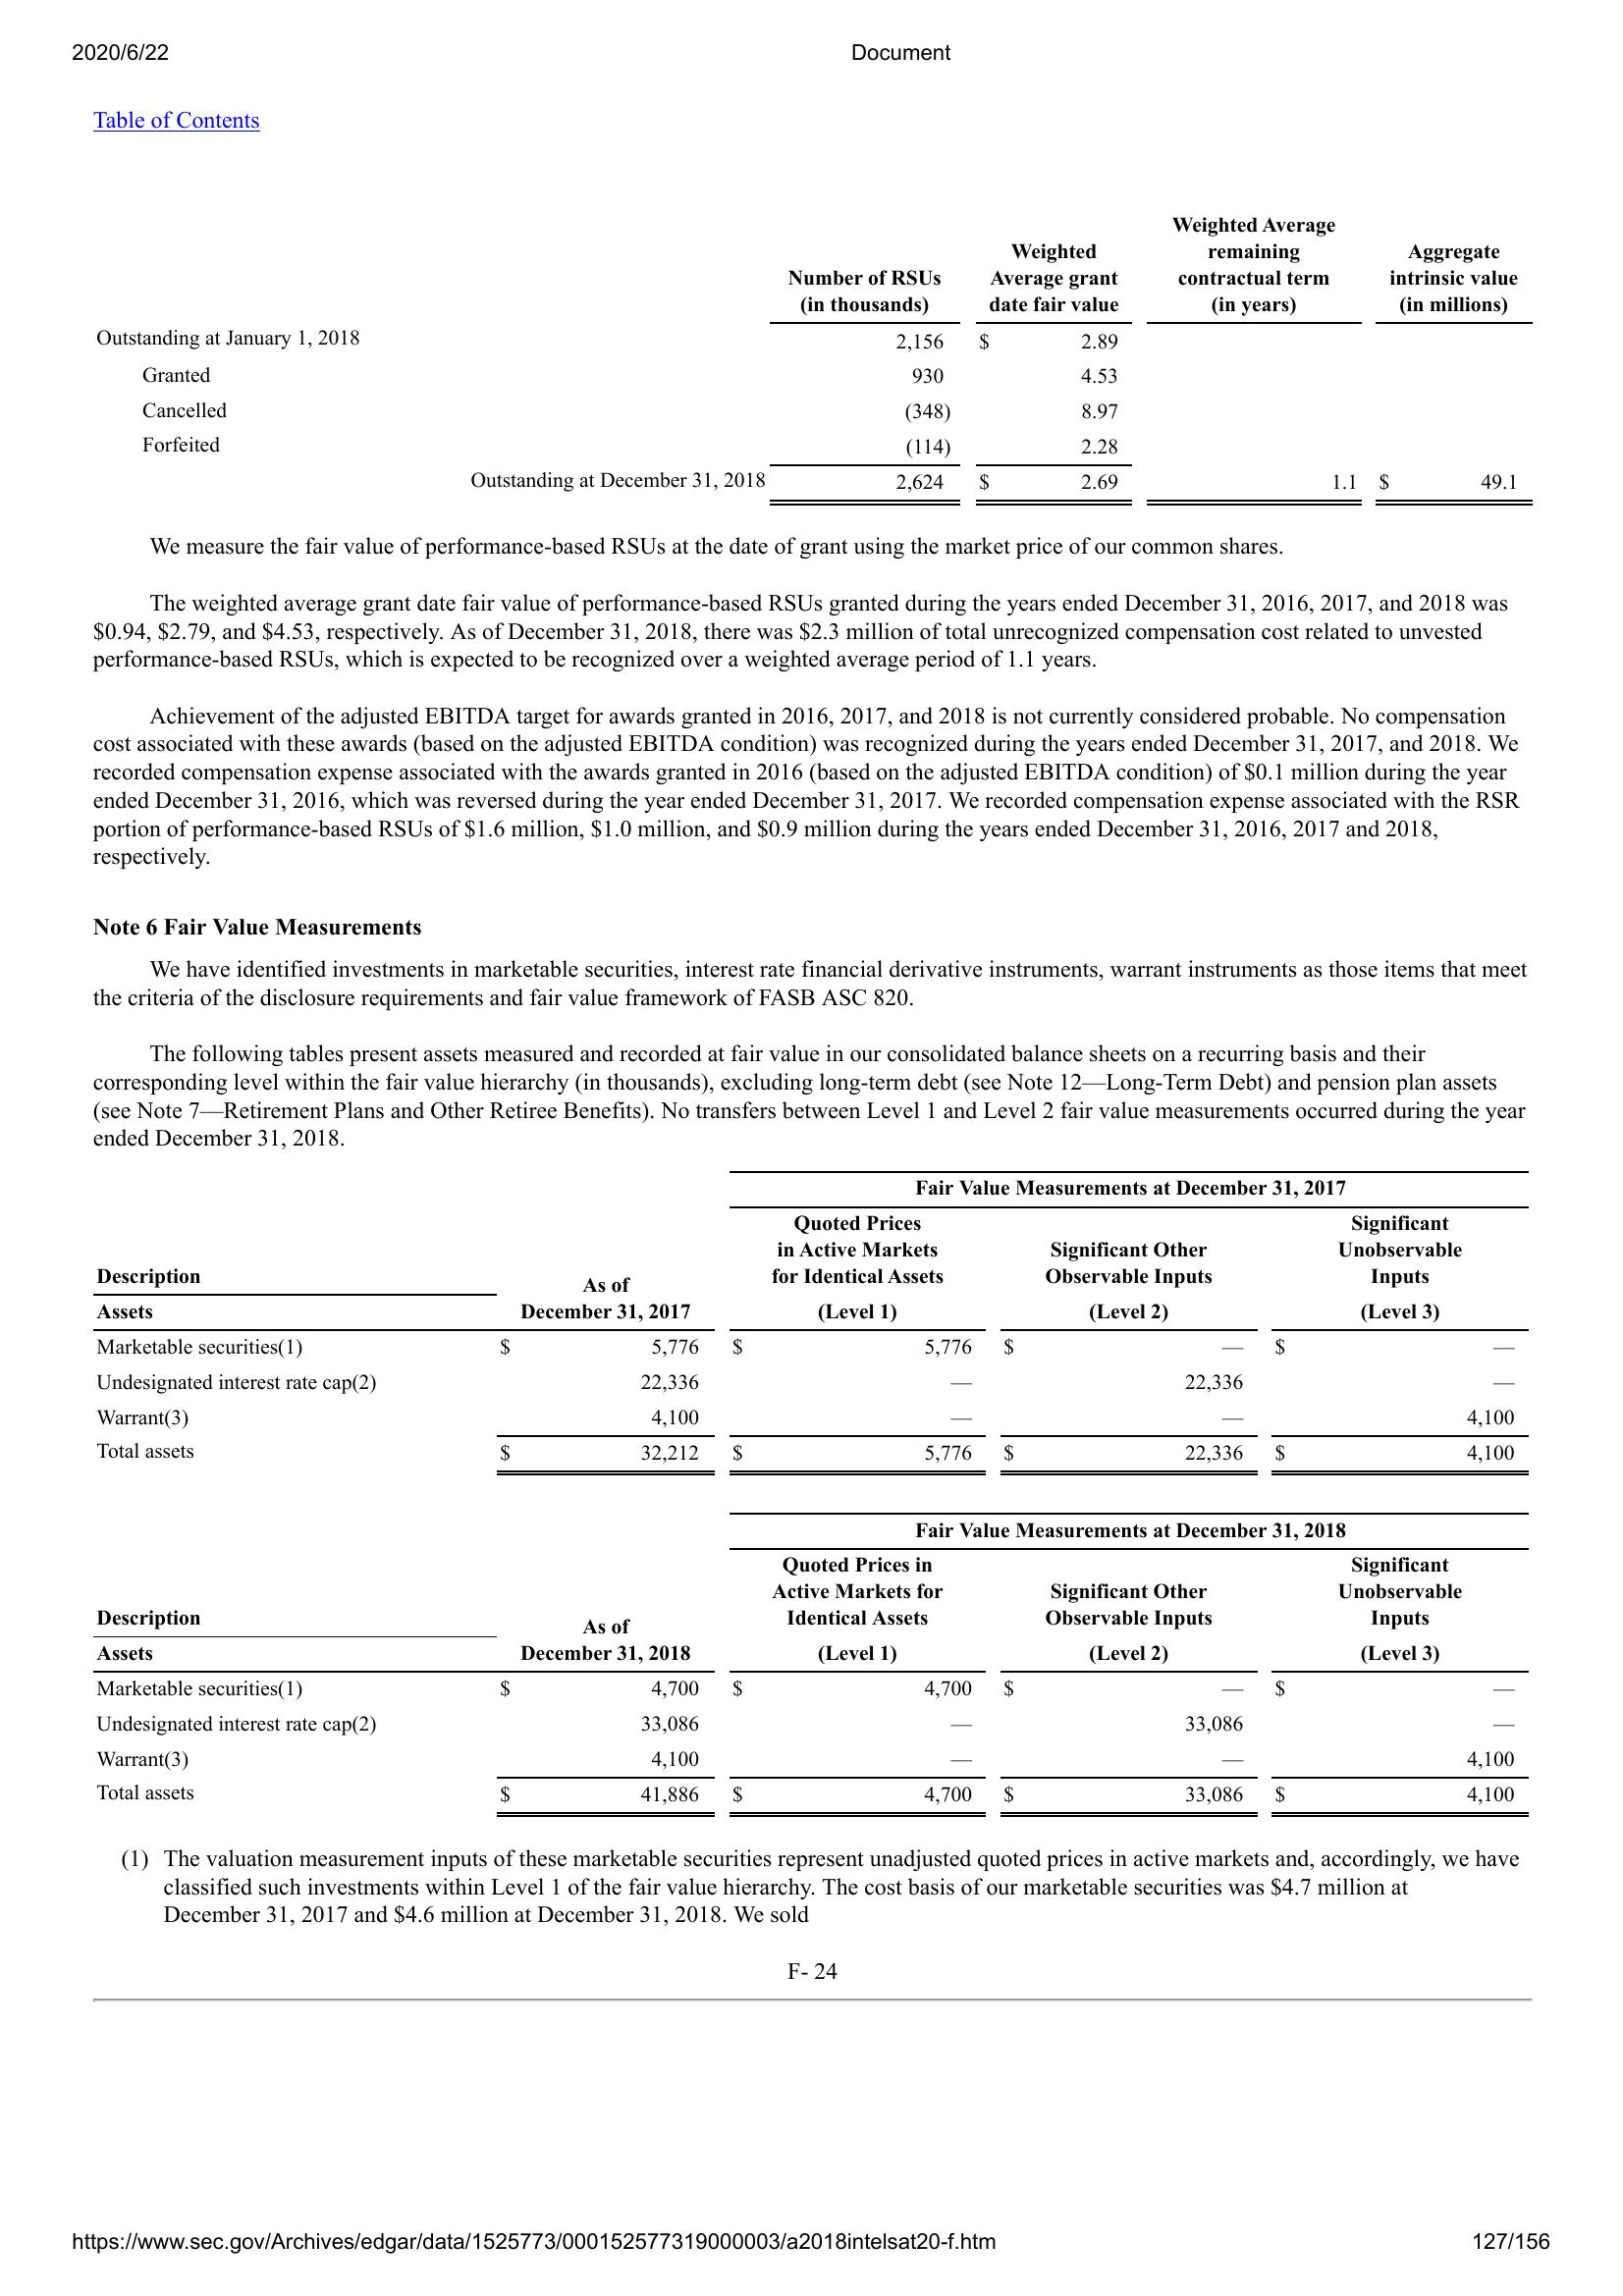table: (91, 1503, 1528, 1826), (95, 211, 1546, 523), (88, 1180, 1540, 1482)
